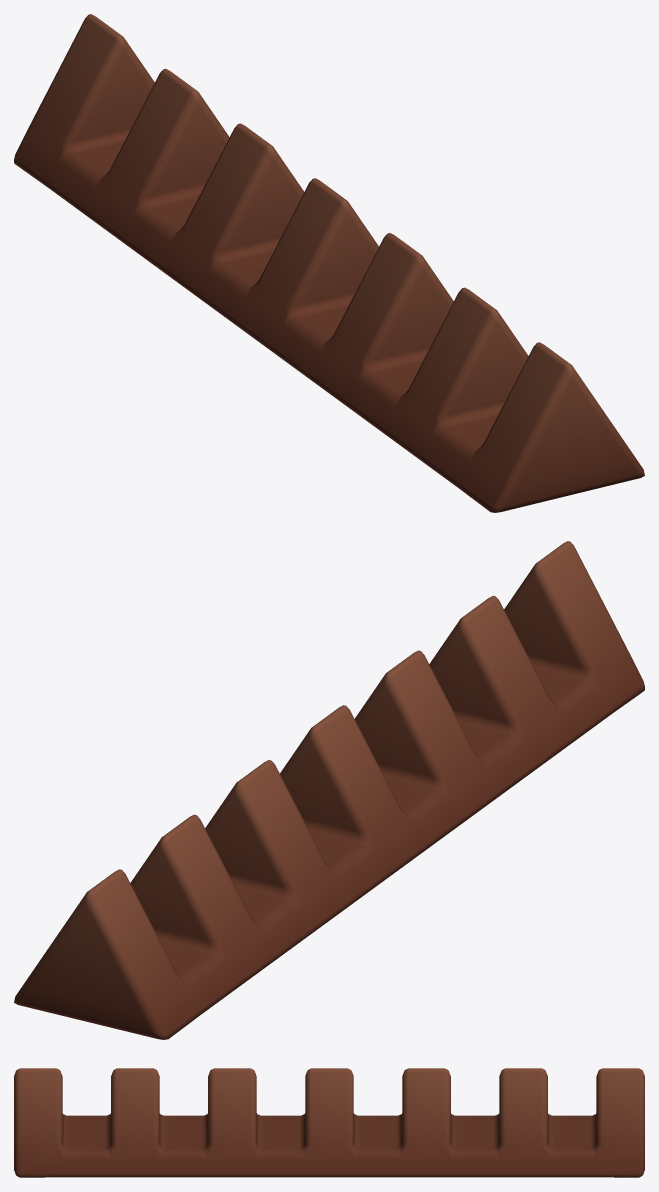
File: Chocolate_01.glb
The picture shows the model from 3 angles, top to bottom: view 1: azimuth 30°, elevation 25°; view 2: azimuth 150°, elevation 25°; view 3: azimuth 270°, elevation 25°; orthographic projection. The views are drawn at different scales.
Visible parts, largest first — view 1: Chocolate_01; view 2: Chocolate_01; view 3: Chocolate_01.
Boxes of the visible parts, <box> form: Chocolate_01: <box>14,14,644,512</box>; Chocolate_01: <box>14,541,644,1039</box>; Chocolate_01: <box>14,1068,644,1177</box>.
Size of the model in its own units: 2.36 by 1.94 by 12.9.
Materials: 1 (1 with a texture image).
